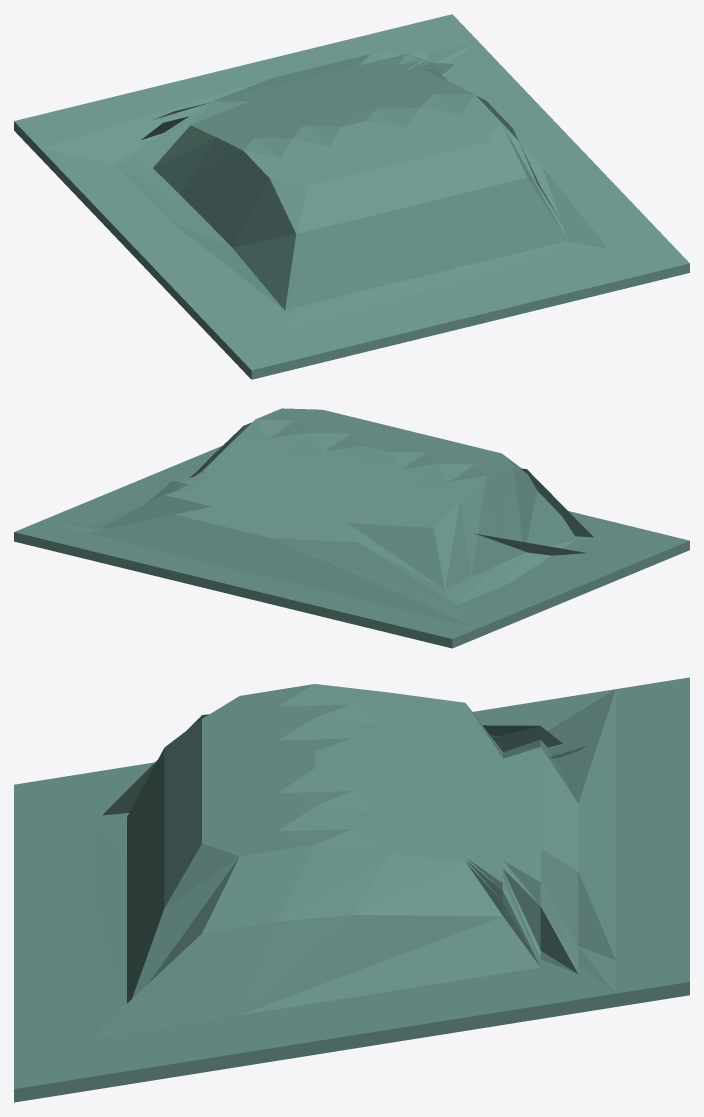
File: kaze_gt_bonnet_cowl.glb
The picture shows the model from 3 angles, top to bottom: view 1: azimuth 30°, elevation 25°; view 2: azimuth 150°, elevation 25°; view 3: azimuth 270°, elevation 25°; orthographic projection. The views are drawn at different scales.
Parts seen in each view (by area): view 1: model; view 2: model; view 3: model.
Boxes of the visible parts, bbox=[...] form: model: bbox=[14, 14, 689, 379]; model: bbox=[14, 408, 689, 648]; model: bbox=[14, 677, 689, 1102].
Bounding box in the file's own units: 1.46 × 0.4069 × 1.37.
